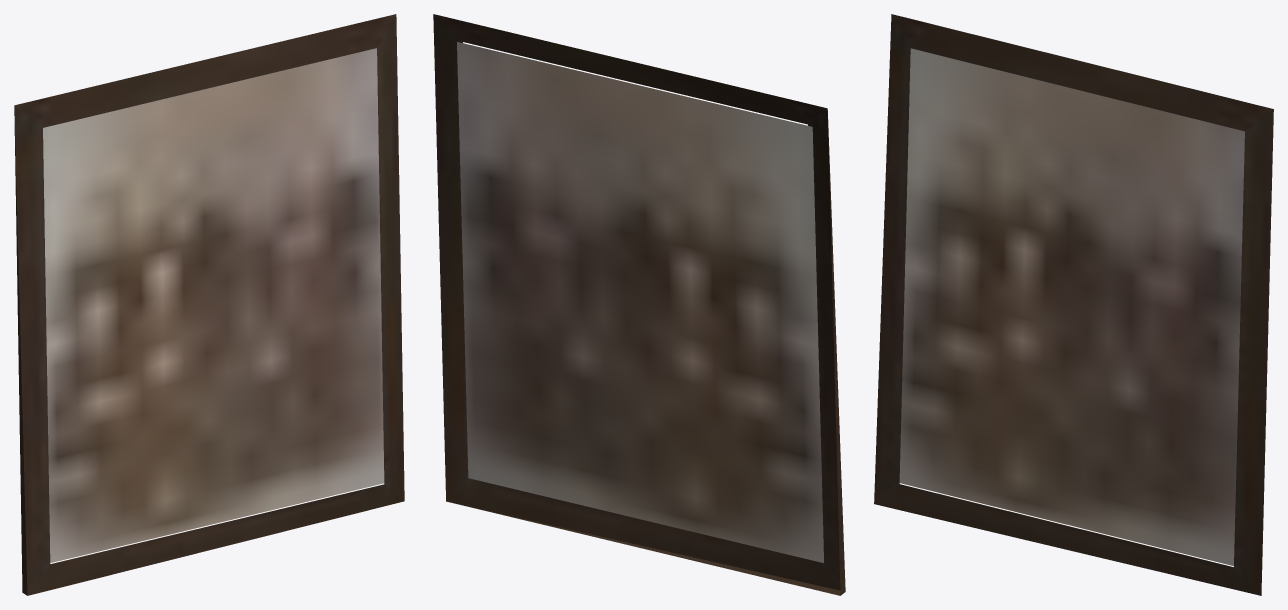
File: portrait-small-4.lod1.glb
3 renders of one model, left to right at view 1: azimuth 30°, elevation 25°; view 2: azimuth 150°, elevation 25°; view 3: azimuth 330°, elevation 25°, orthographic. The views are drawn at different scales.
Visible parts, largest first — view 1: portrait-small-4; view 2: portrait-small-4; view 3: portrait-small-4.
Part boxes in pixels (x1,y1,x2,y2): portrait-small-4: [14, 14, 404, 595]; portrait-small-4: [433, 14, 845, 595]; portrait-small-4: [874, 14, 1273, 595].
Bounding box in the file's own units: 0.1674 × 0.2004 × 0.0115.
1 material, 1 textured.
